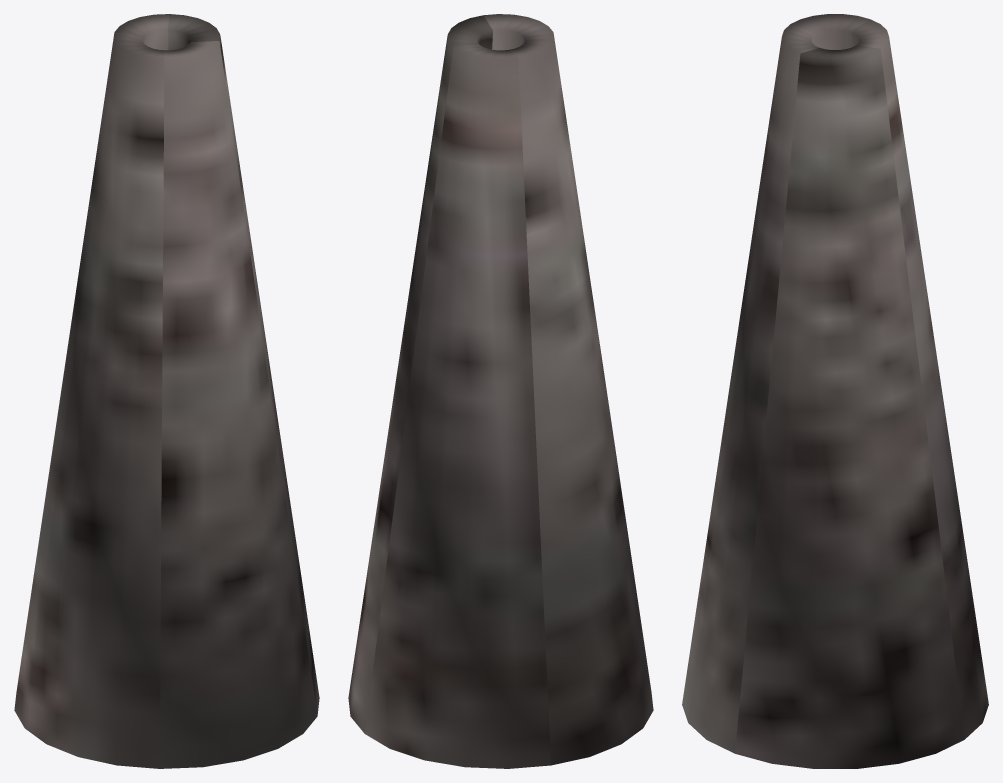
Rendered from item9.fbx.
3 views of the same model, side by side, from view 1: azimuth 30°, elevation 25°; view 2: azimuth 150°, elevation 25°; view 3: azimuth 270°, elevation 25° (orthographic).
Visible parts, largest first — view 1: item9; view 2: item9; view 3: item9.
Part boxes in pixels (x1,y1,x2,y2): item9: (14,14,319,768); item9: (348,14,653,768); item9: (682,14,988,768).
Bounding box in the file's own units: 20.47 × 49.95 × 20.68.
